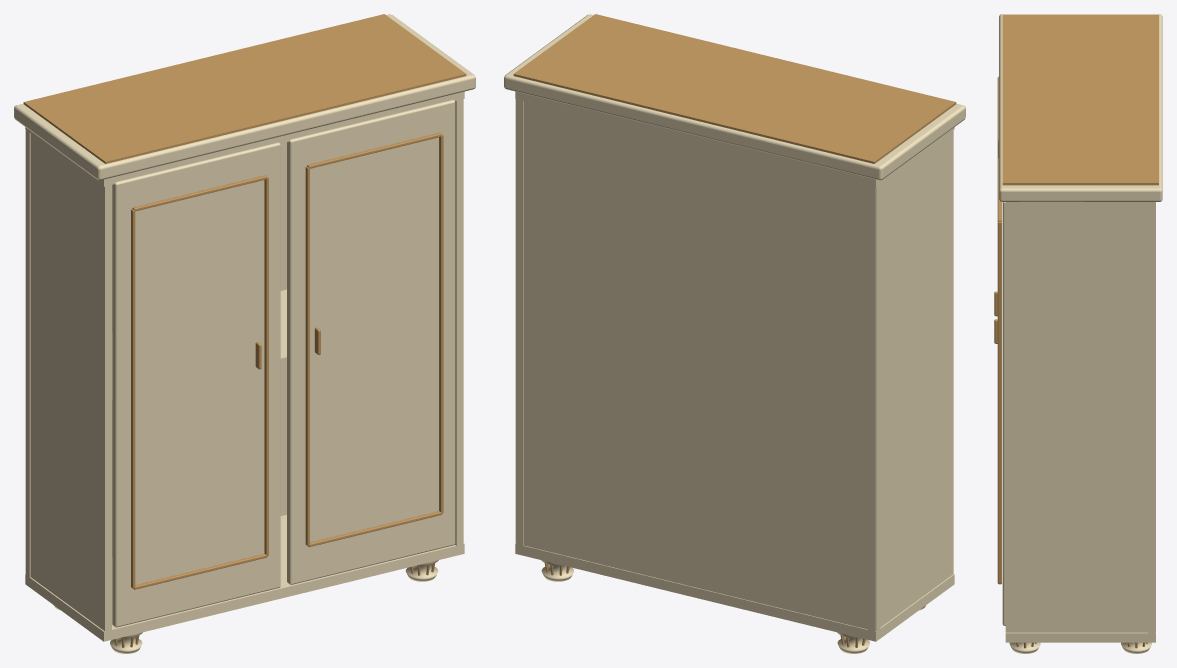
File: wardrobe_palais-10237f8f7d6f.glb
3 renders of one model, left to right at view 1: azimuth 30°, elevation 25°; view 2: azimuth 150°, elevation 25°; view 3: azimuth 270°, elevation 25°, orthographic. The views are drawn at different scales.
Parts seen in each view (by area): view 1: surface_ivory, surface_brass; view 2: surface_ivory, surface_brass; view 3: surface_ivory, surface_brass.
Boxes of the visible parts, left/top/right/bottom form: surface_ivory: left=14, top=14, right=475, bottom=653; surface_brass: left=23, top=14, right=466, bottom=647; surface_ivory: left=504, top=14, right=965, bottom=653; surface_brass: left=513, top=14, right=956, bottom=647; surface_ivory: left=999, top=14, right=1162, bottom=653; surface_brass: left=994, top=15, right=1158, bottom=648.
Bounding box in the file's own units: 1.56 × 1.97 × 0.6278.
